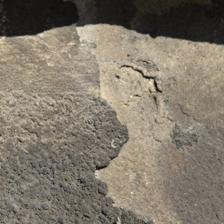Crack: (0, 16, 175, 70), (21, 53, 132, 111)
